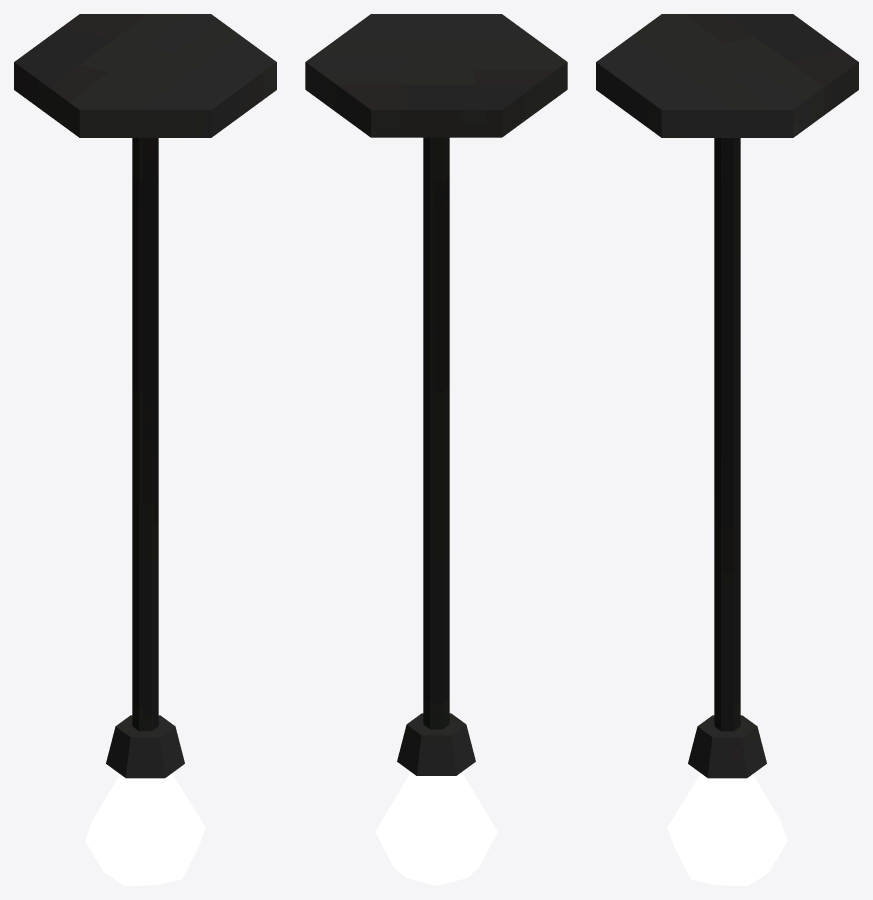
The model's file is ceilingLight2.glb.
3 renders of one model, left to right at view 1: azimuth 30°, elevation 25°; view 2: azimuth 150°, elevation 25°; view 3: azimuth 270°, elevation 25°, orthographic.
Visible parts, largest first — view 1: ceilingLight2; view 2: ceilingLight2; view 3: ceilingLight2.
Boxes of the visible parts, x1,y1,x2,y2 form: ceilingLight2: [14, 14, 276, 885]; ceilingLight2: [305, 14, 567, 885]; ceilingLight2: [596, 14, 858, 885].
Bounding box in the file's own units: 0.2256 × 0.8969 × 0.2605.
Materials: 1 (1 with a texture image).
